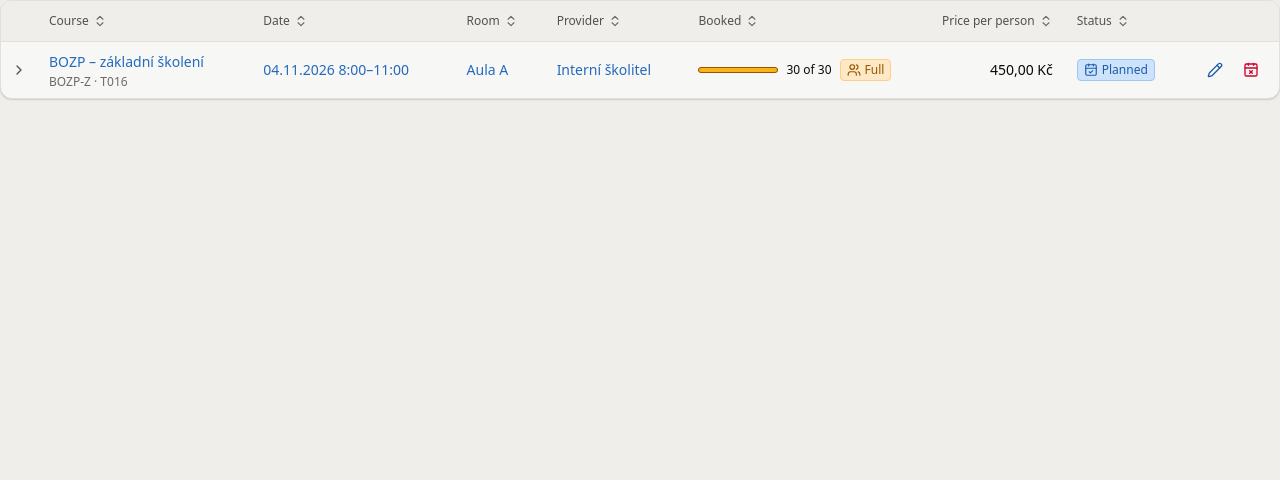
Test: a session’s opened row › books someone who needs the course, and cancels a booking, as its page does
Click the button named "Who is booked on T016": (19, 70) [5,56,33,84]
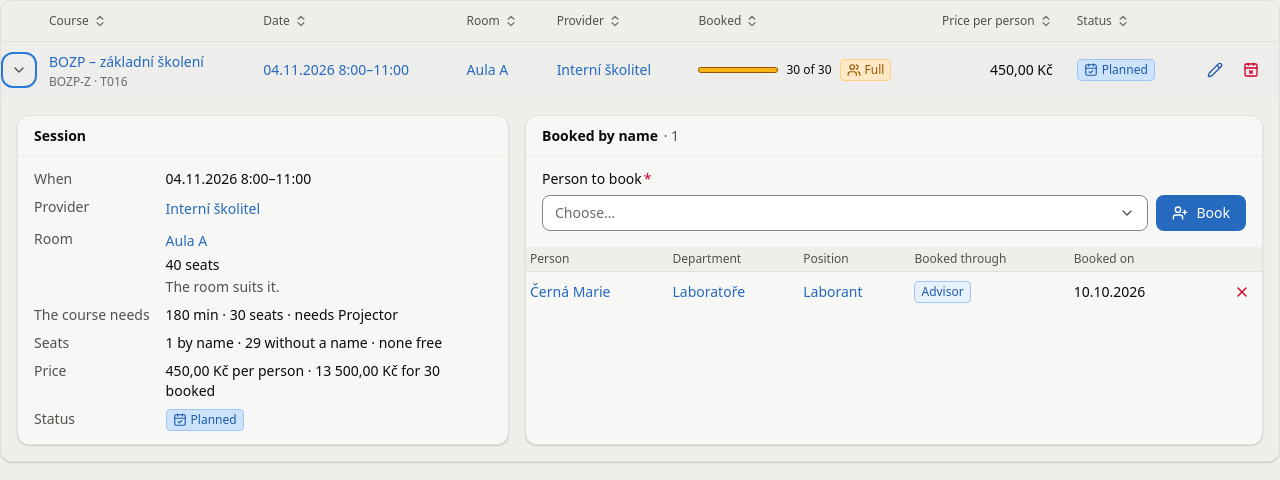
Expected: the text "180 min · 30 seats · needs Projector" is shown, [166,305,398,324]
Expected: the dropdown named "Person to book" is enabled, [542,195,1148,231]
Expected: the button named "Cancel the booking of Černá Marie" is shown, [1226,276,1258,308]
